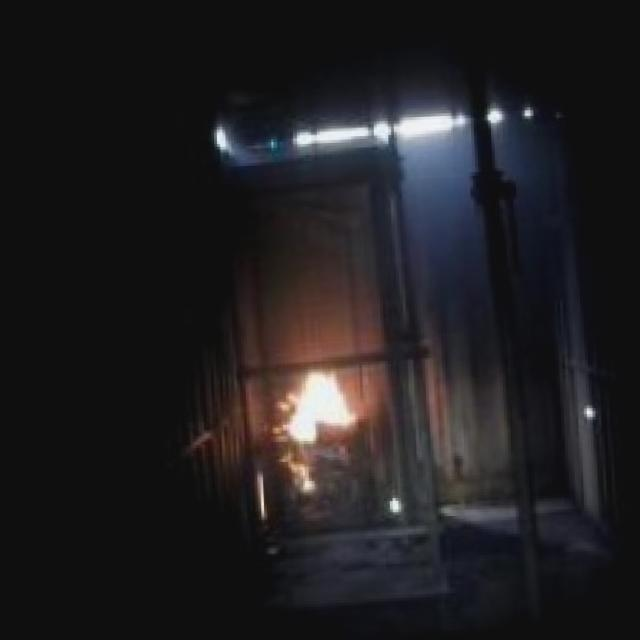fire: (272, 343, 356, 460)
